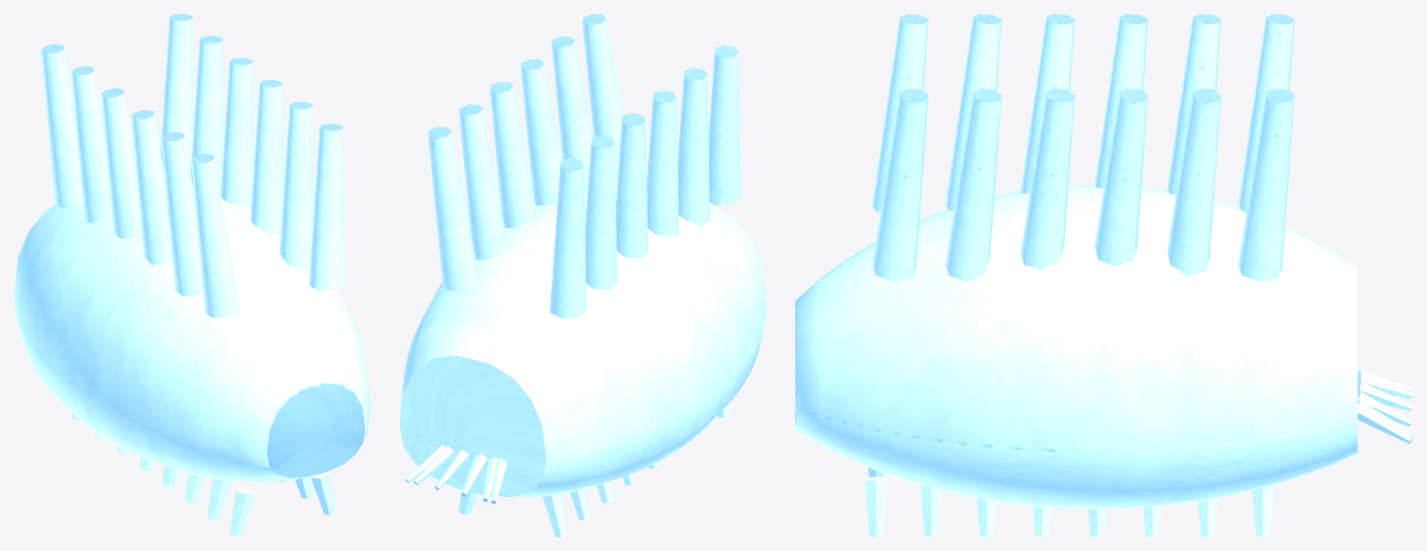
File: scotoplanes_globosa.glb
3 views of the same model, side by side, from view 1: azimuth 30°, elevation 25°; view 2: azimuth 150°, elevation 25°; view 3: azimuth 270°, elevation 25° (orthographic). The views are drawn at different scales.
Visible parts, largest first — view 1: scotoplanes_globosa; view 2: scotoplanes_globosa; view 3: scotoplanes_globosa.
Part boxes in pixels (x1,y1,x2,y2): scotoplanes_globosa: (14, 14, 370, 536); scotoplanes_globosa: (399, 14, 766, 536); scotoplanes_globosa: (795, 14, 1412, 536).
Size of the model in its own units: 0.2392 by 0.344 by 0.4243.
1 material, 1 textured.
